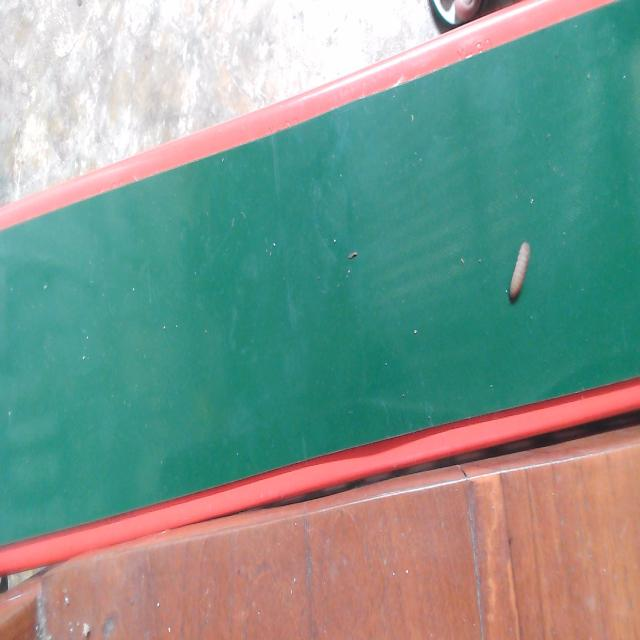Maggot: (501, 237, 537, 312)
